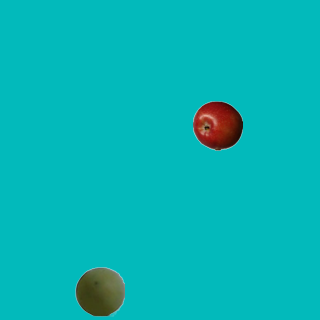Apple Braeburn: (192, 100, 242, 150)
Grape White 4: (74, 266, 124, 316)
